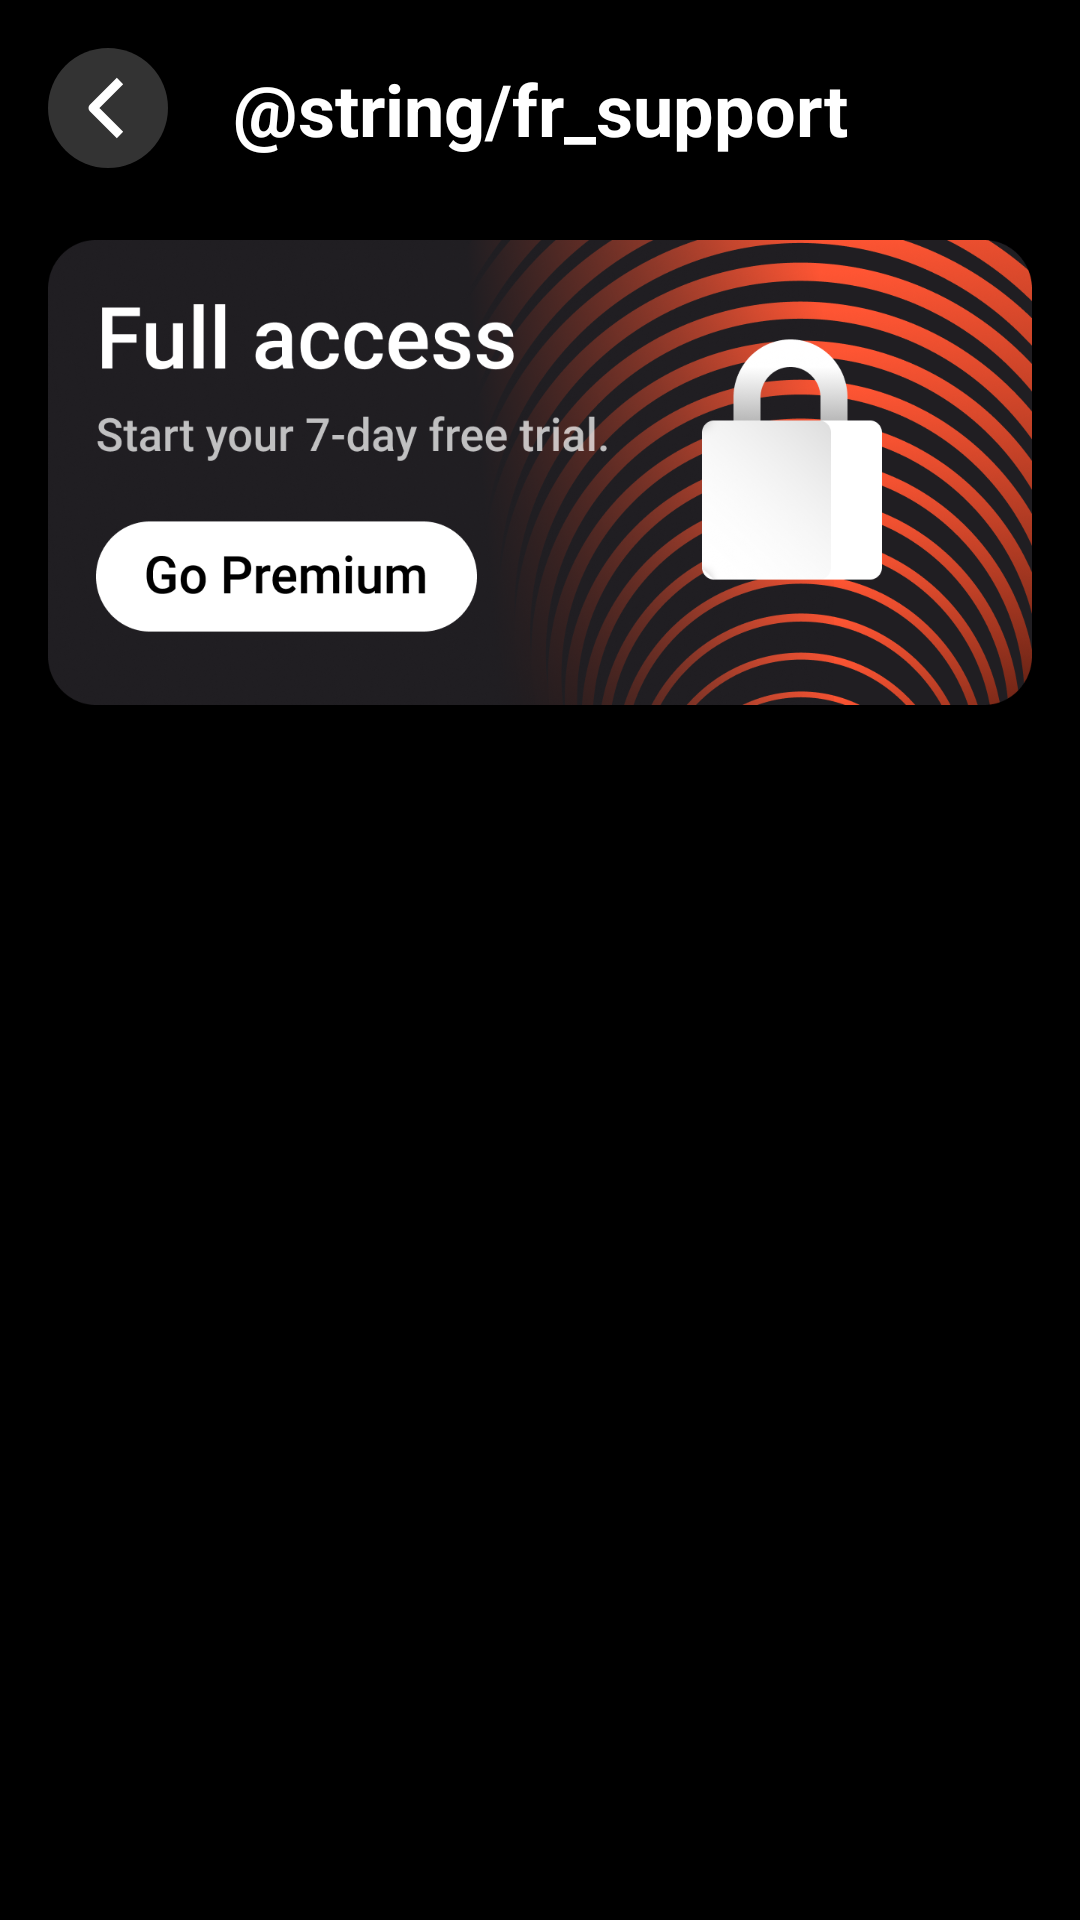

Point at icon controls on the screen. Image size 1080w x 1920h, points as point (x, y).
back: point (108, 108)
